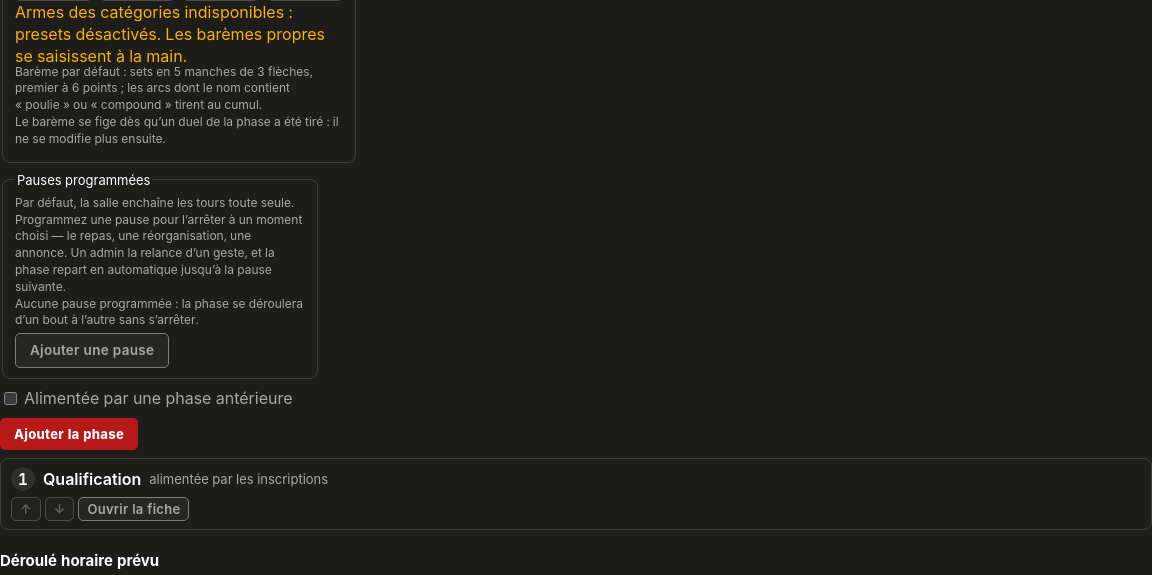
Test case: le découpage en tours sur l’écran des phases › est atteignable sur une qualification, sans passer par un formulaire d’édition
(page scrolled)
Click the button "Ouvrir la fiche" at (134, 509), box x1=78 y1=497 x2=189 y2=521
(page scrolled)
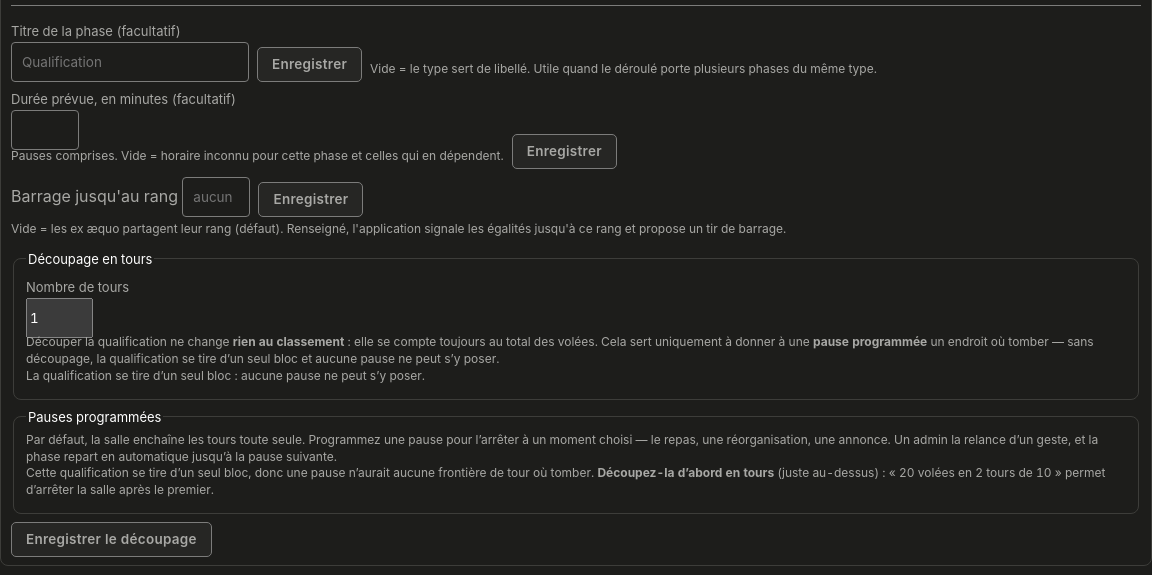
Result: the text "Découpage en tours" is shown at x1=26 y1=250 x2=154 y2=268
